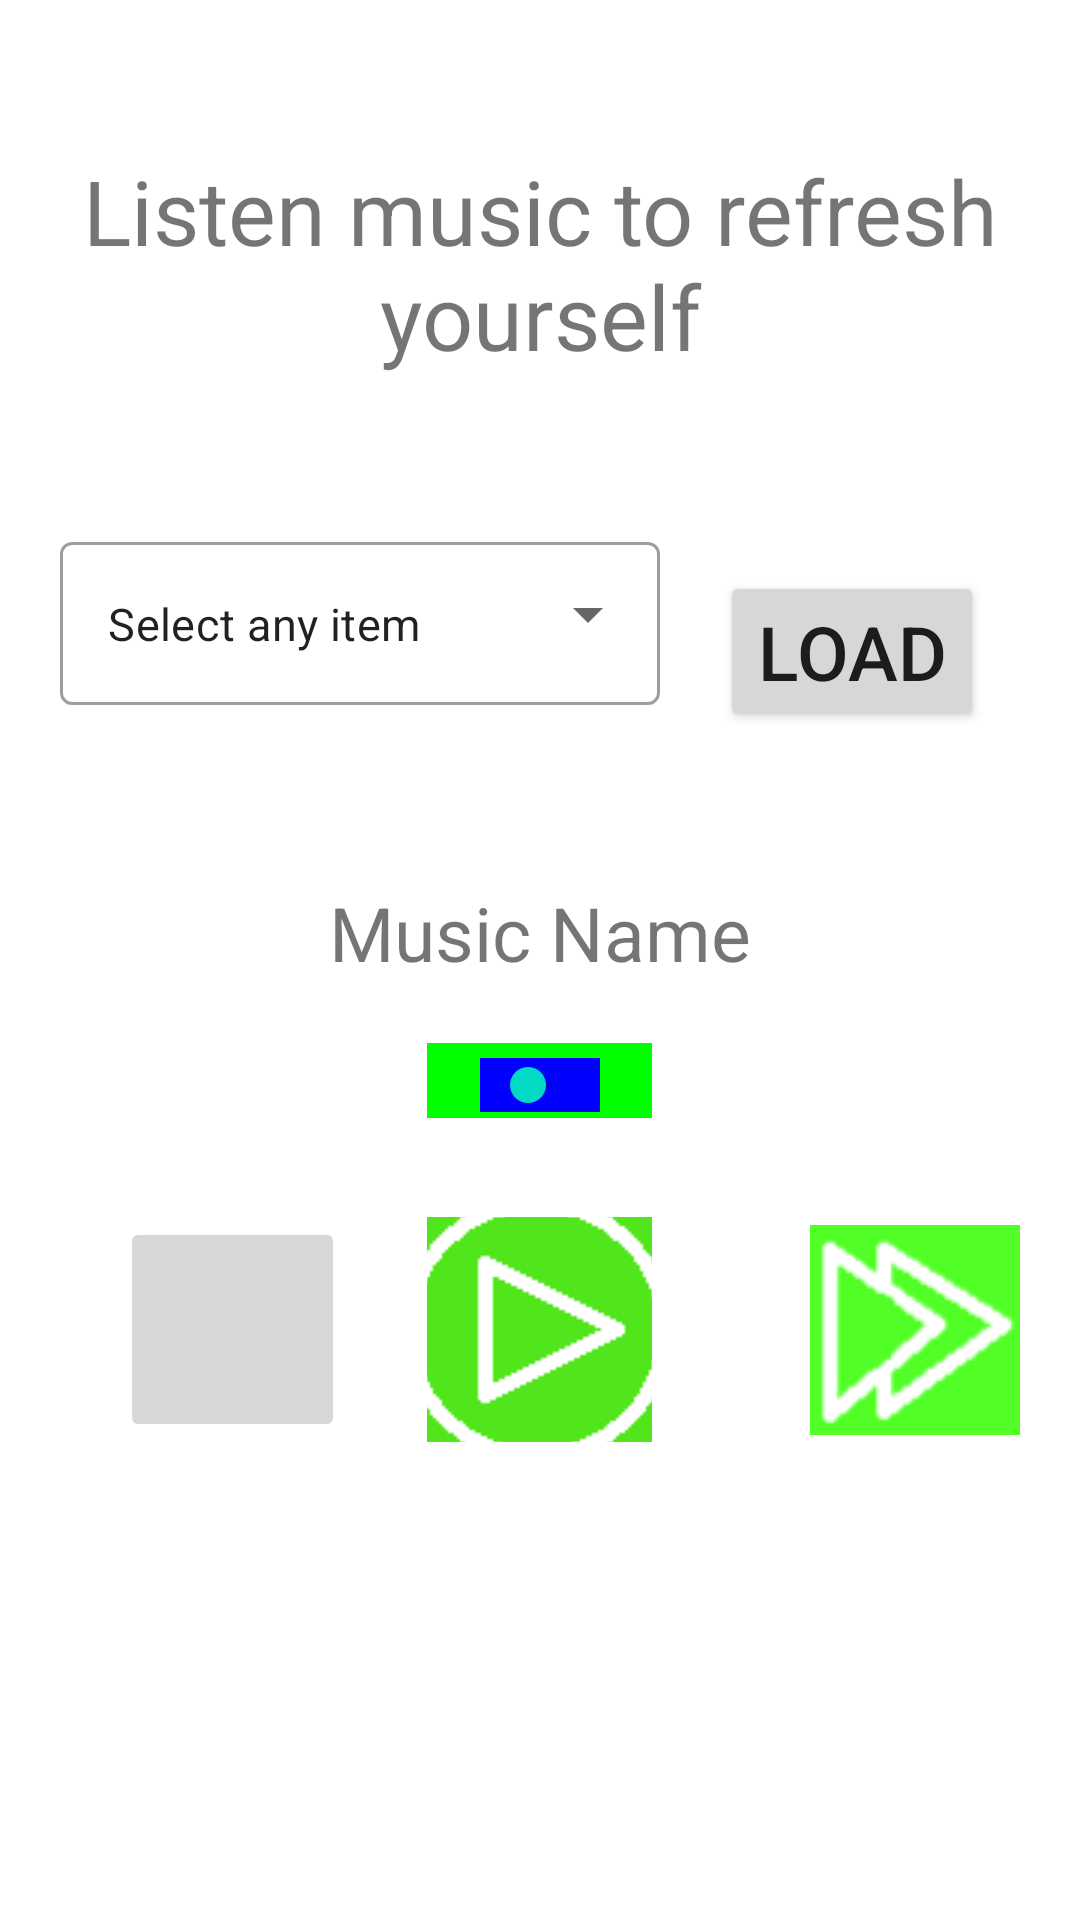

Named icons in this screenshot (1080px×1920px) and their bounding boxes, region(x1, y1, x2, y2):
Move Forward 5 seconds: region(810, 1225, 1020, 1435)
